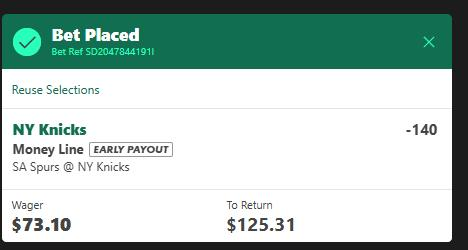game: (12, 160, 131, 177)
odds: (404, 120, 440, 138)
payout: (226, 214, 298, 237)
wager: (12, 215, 72, 236)
